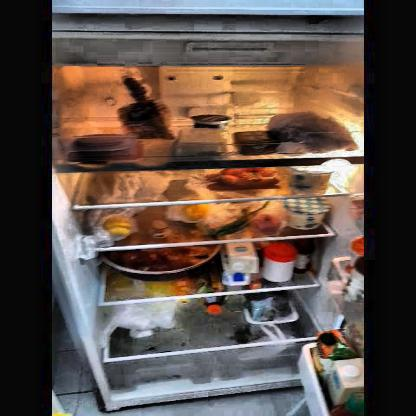broccoli: (244, 294, 294, 324)
butter: (236, 130, 276, 152)
carrot: (206, 168, 280, 190)
cheese: (175, 132, 225, 153)
green_chillies: (200, 224, 248, 236)
lemon: (102, 214, 133, 238), (184, 204, 209, 221)
milk: (221, 244, 257, 284)
salami: (74, 132, 130, 154)
tomato: (253, 214, 281, 231)
yoghurt: (285, 200, 331, 228), (290, 166, 333, 190), (192, 114, 230, 127)
